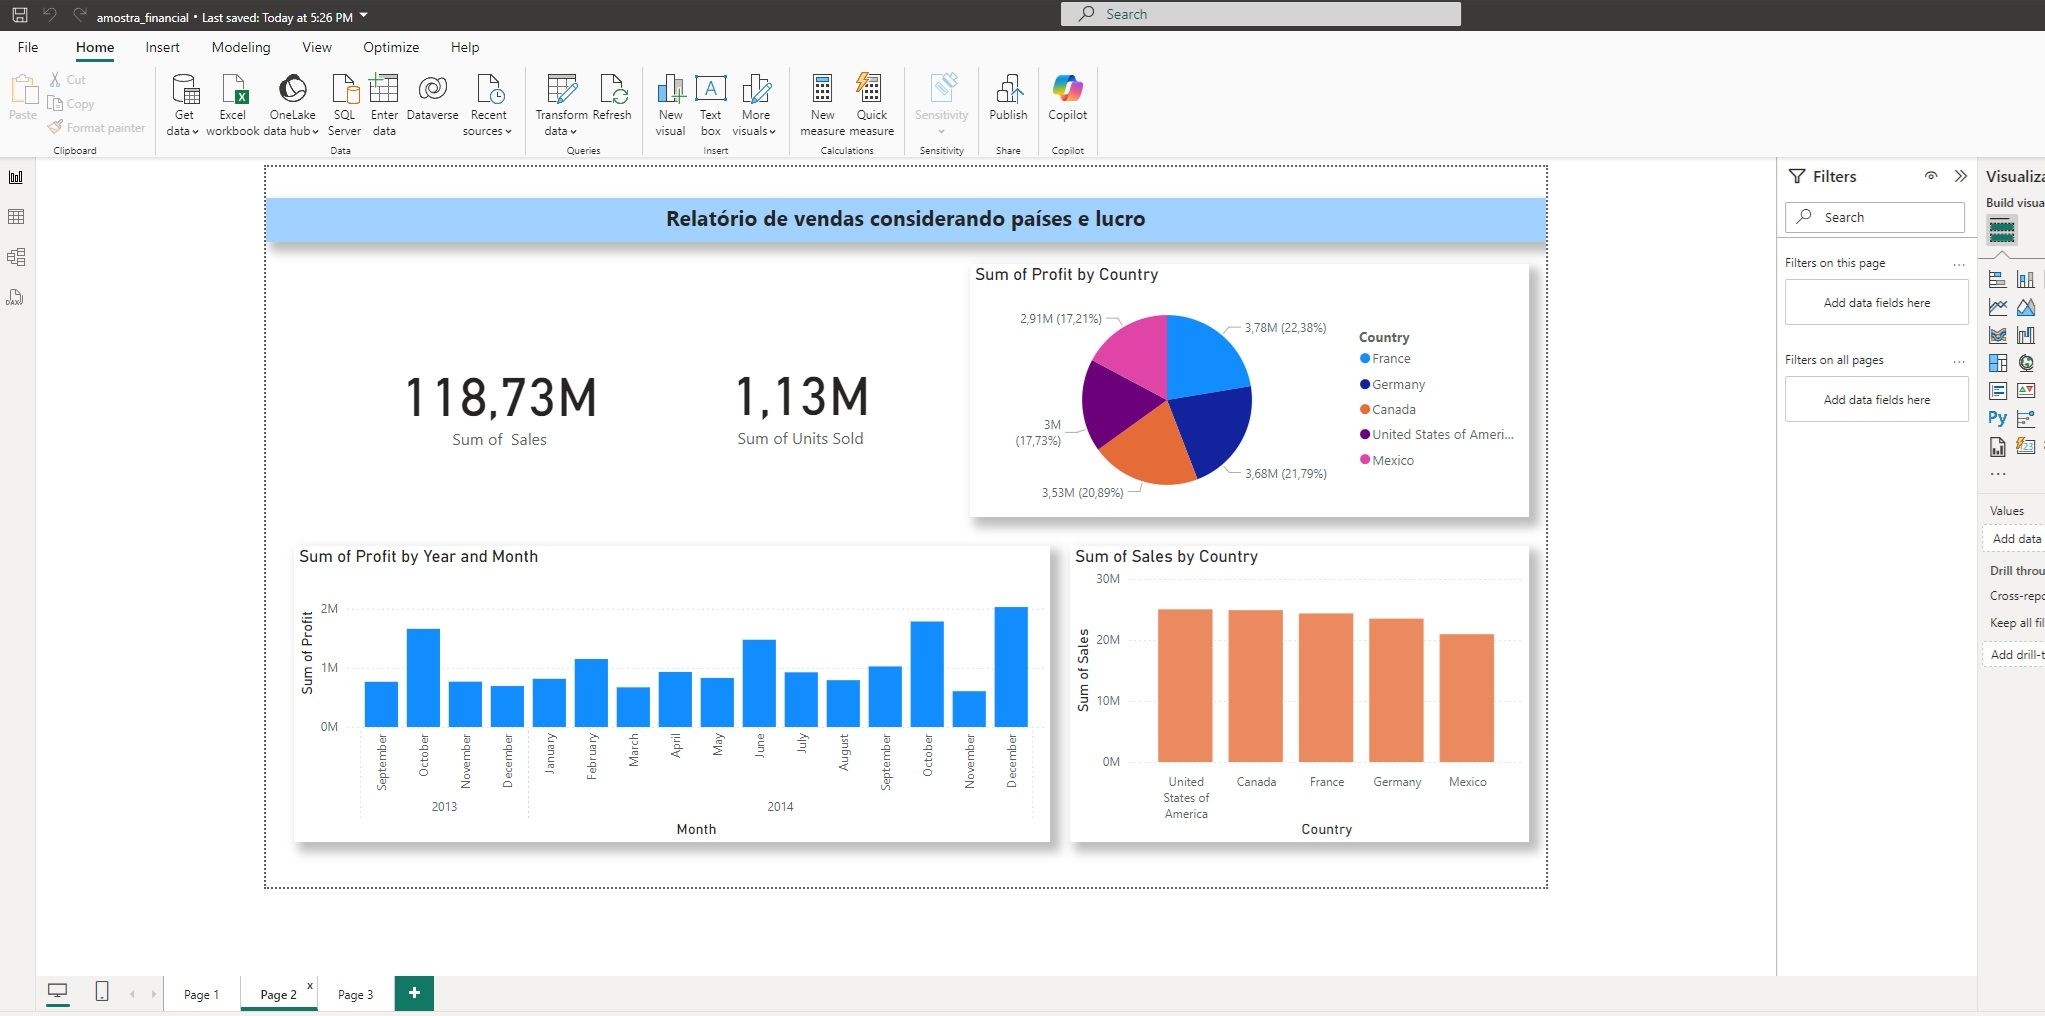

This screenshot's page, from the dashboard's own definition file:
{"tool":"powerbi","page":{"name":"Page 2","canvas":[1280,720],"ordinal":1},"visuals":[{"type":"textbox","box":[0,31.3,1279.7,43.9],"z":0},{"type":"card","fields":{"Values":["Sum(financials. Sales)"]},"box":[89.6,171.9,287.5,121.8],"z":1000},{"type":"card","fields":{"Values":["Sum(financials.Units Sold)"]},"box":[429,157.6,211.3,149.6],"z":2000},{"type":"pieChart","fields":{"Y":["Sum(financials.Profit)"],"Category":["financials.Country"]},"box":[703.9,96.7,558.8,253.4],"z":3000},{"type":"clusteredColumnChart","fields":{"Y":["Sum(financials.Profit)"],"Category":["financials.Date.Variation.Date Hierarchy.Year","financials.Date.Variation.Date Hierarchy.Month"]},"box":[27.8,378.8,755.8,296.4],"z":4000},{"type":"clusteredColumnChart","fields":{"Category":["financials.Country"],"Y":["Sum(financials. Sales)"]},"box":[804.2,378.8,458.5,296.4],"z":5000}]}

Visuals, with their boxes on the page's 1280x720 design canvas (x1, y1, x2, y2). These are canvas units, not pixel positions in the 2045x1016 screenshot, which may show the page scaled, cropped or inside an application window:
textbox: left=0, top=31, right=1280, bottom=75
card - Sum(financials. Sales): left=90, top=172, right=377, bottom=294
card - Sum(financials.Units Sold): left=429, top=158, right=640, bottom=307
pieChart - Sum(financials.Profit) x financials.Country: left=704, top=97, right=1263, bottom=350
clusteredColumnChart - Sum(financials.Profit) x financials.Date.Variation.Date Hierarchy.Year: left=28, top=379, right=784, bottom=675
clusteredColumnChart - financials.Country x Sum(financials. Sales): left=804, top=379, right=1263, bottom=675
